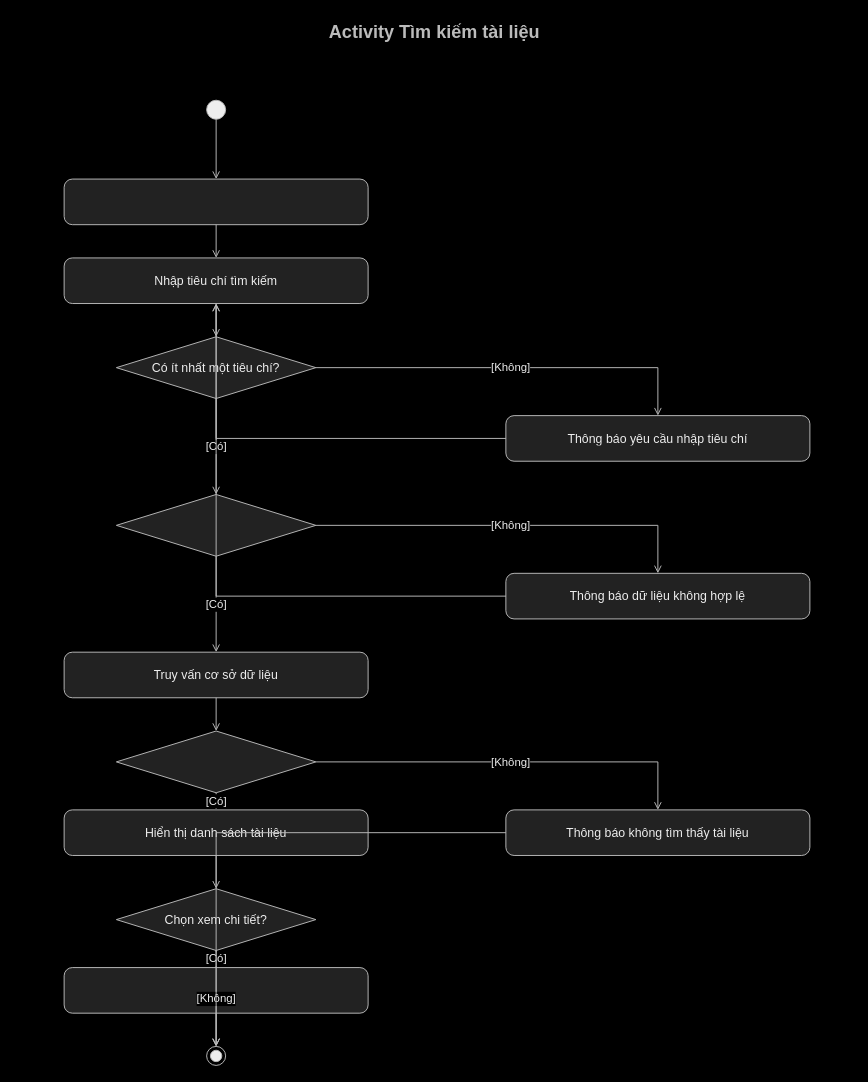
Some shapes in this 868 by 1082 pixel diagram are drawn without their labels. The box of each missing label's shape, as (x1, y1, x2, y2) in pixels:
Có kết quả?: (115, 730, 316, 793)
Dữ liệu hợp lệ?: (115, 494, 316, 556)
Hiển thị thông tin tài liệu: (63, 967, 368, 1013)
Hệ thống hiển thị màn hình tìm kiếm: (63, 178, 368, 225)
